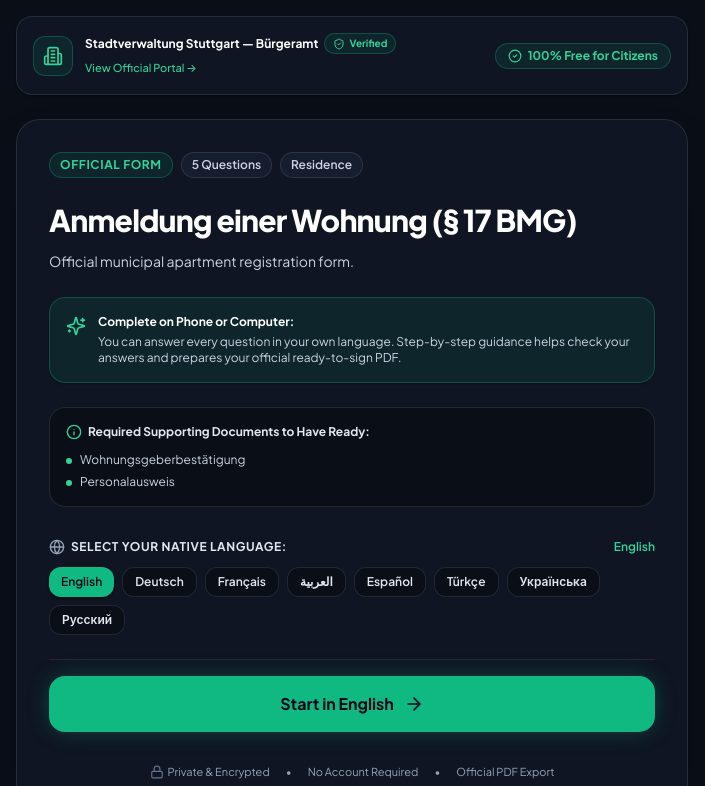
Test: ShortLinkIntakePage (/f/[...slug]) (Phase G4) › starts a free intake session in the chosen language and navigates to guided session
Later steps or results of the test are not shown.
Expected: the heading "Anmeldung einer Wohnung (§ 17 BMG)" is shown, [49,202,655,238]
Select French
Click the button "Français" at (242, 582), box [205,567,279,597]
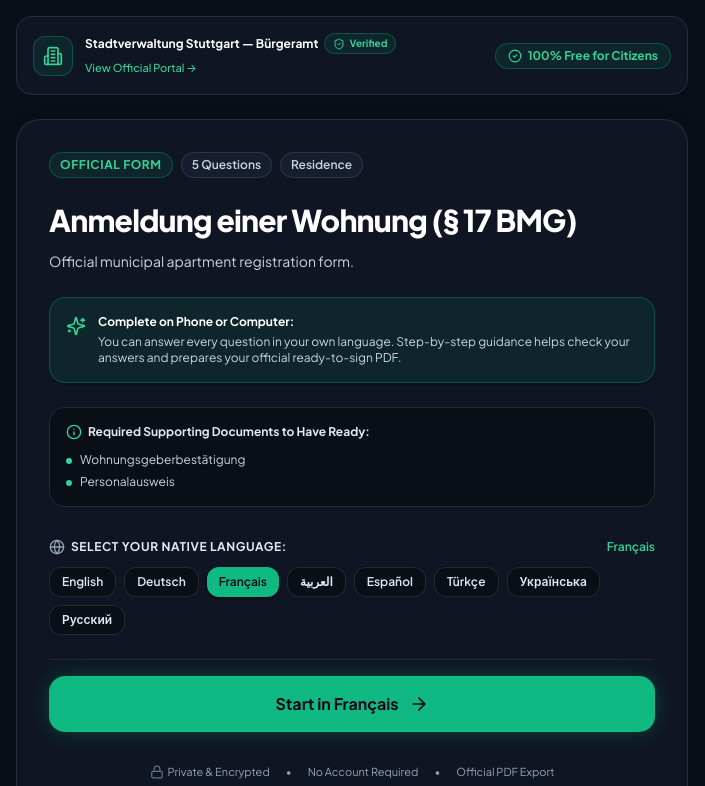
Expected: the button "Start in Français" is shown, [49,676,655,732]
